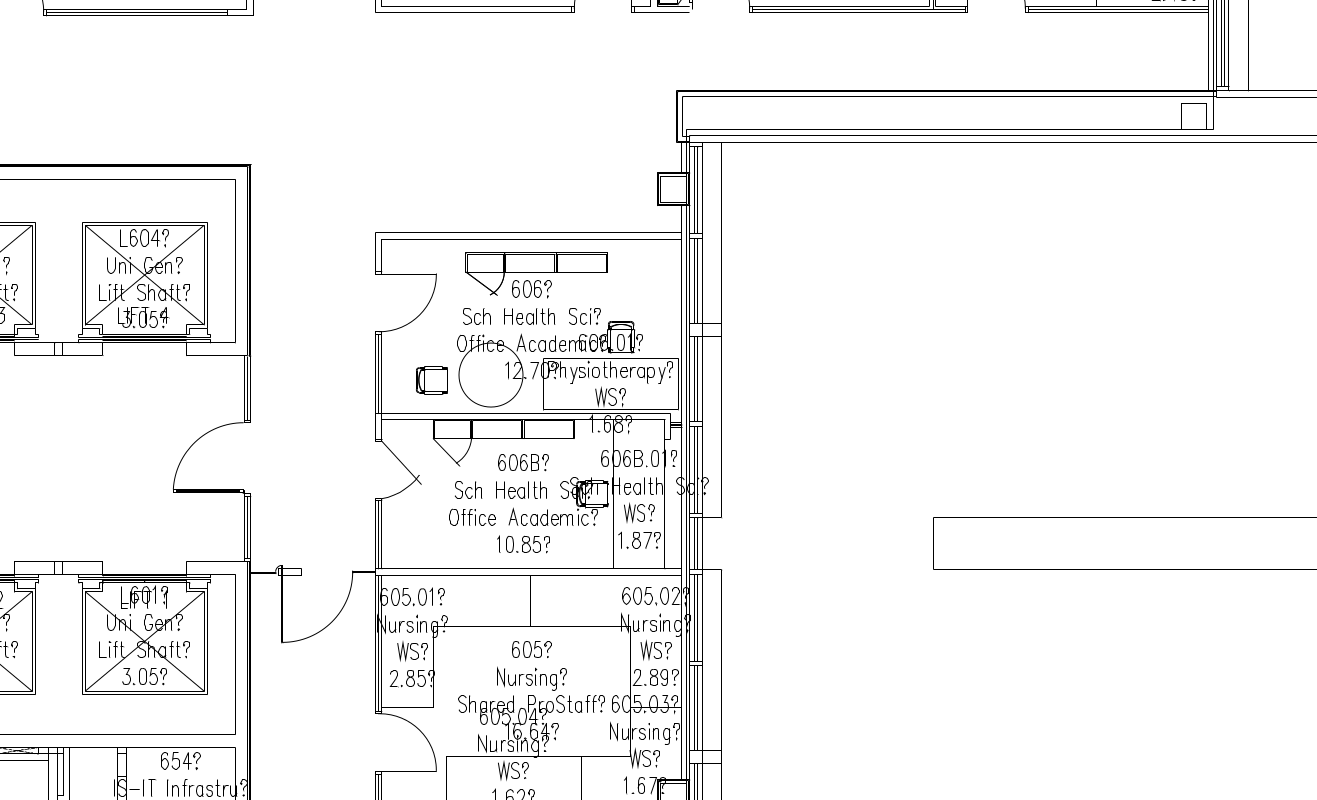door: (161, 415, 242, 501), (275, 575, 356, 661), (371, 710, 440, 775), (372, 271, 441, 336), (364, 438, 433, 503)
